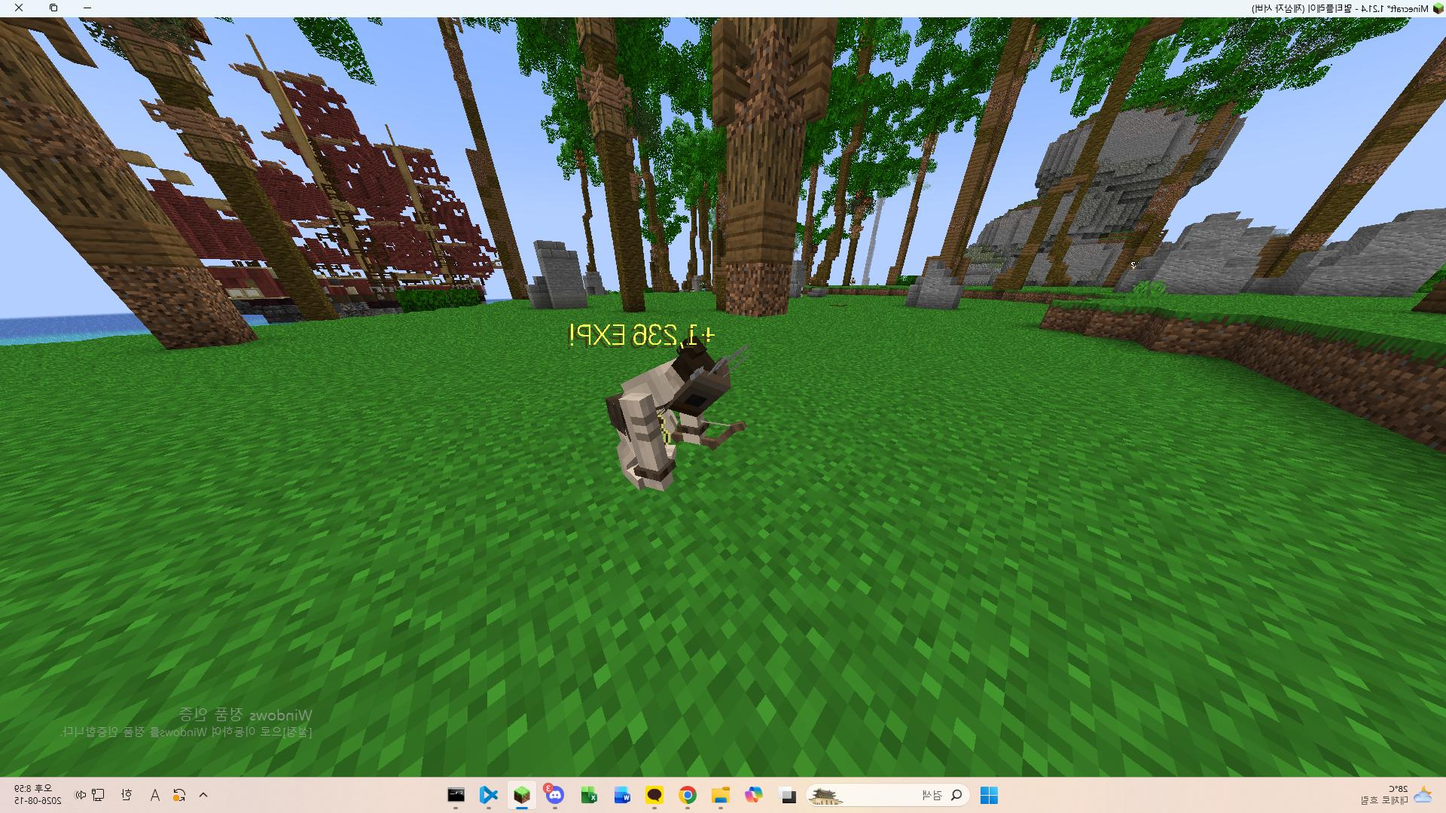bow_indian: (563, 316, 770, 496)
